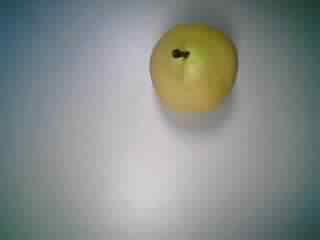pear: (135, 16, 245, 119)
